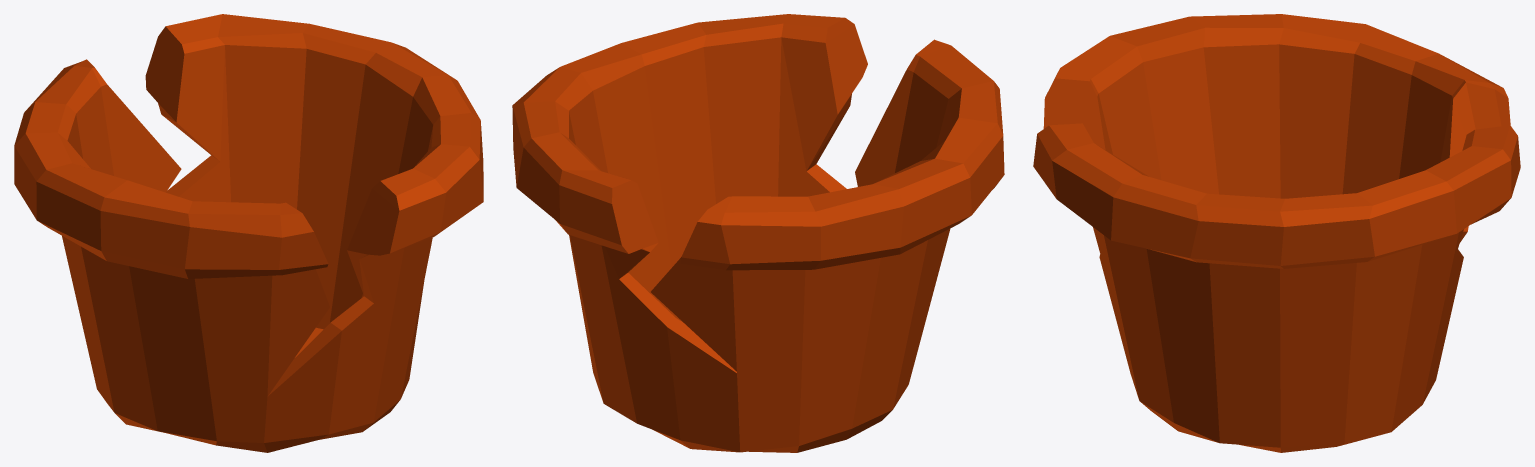
File: flower_pot_broken_01.fbx
The picture shows the model from 3 angles, left to right: view 1: azimuth 30°, elevation 25°; view 2: azimuth 150°, elevation 25°; view 3: azimuth 270°, elevation 25°; orthographic projection.
Parts seen in each view (by area): view 1: flower pot 1.003; view 2: flower pot 1.003; view 3: flower pot 1.003.
Boxes of the visible parts, left/top/right/bottom form: flower pot 1.003: left=14, top=14, right=483, bottom=452; flower pot 1.003: left=512, top=14, right=1004, bottom=452; flower pot 1.003: left=1033, top=14, right=1520, bottom=452.
Bounding box in the file's own units: 47.53 × 30.82 × 47.72.
